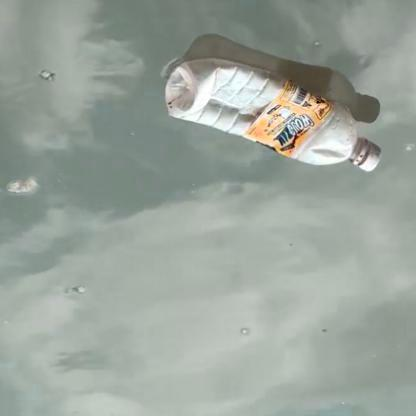Plastic: (161, 55, 386, 174)
